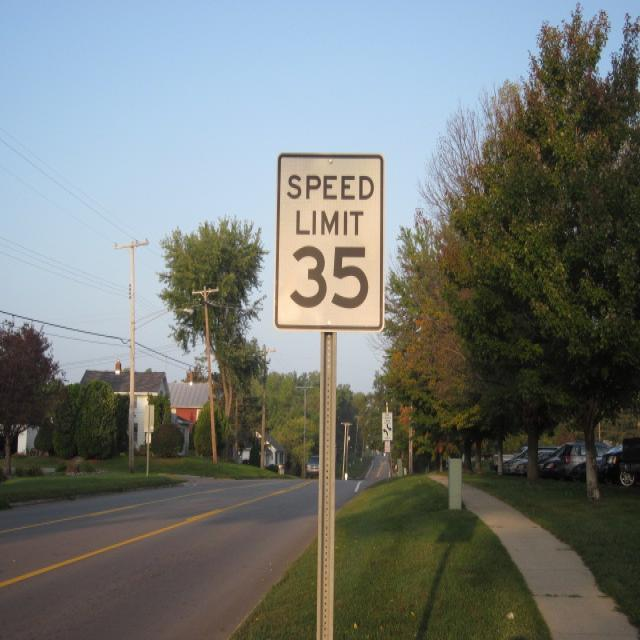regulatory: (269, 145, 391, 336)
